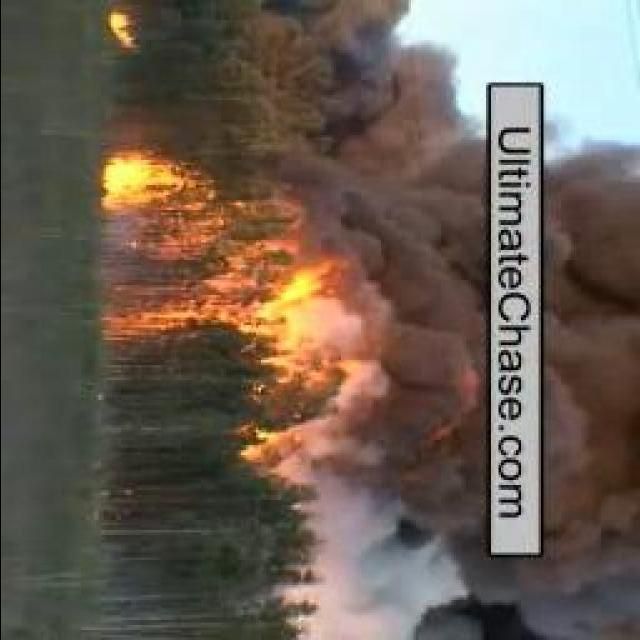Fire: (94, 264, 342, 349), (104, 145, 200, 221), (244, 419, 322, 471), (104, 10, 136, 47)
